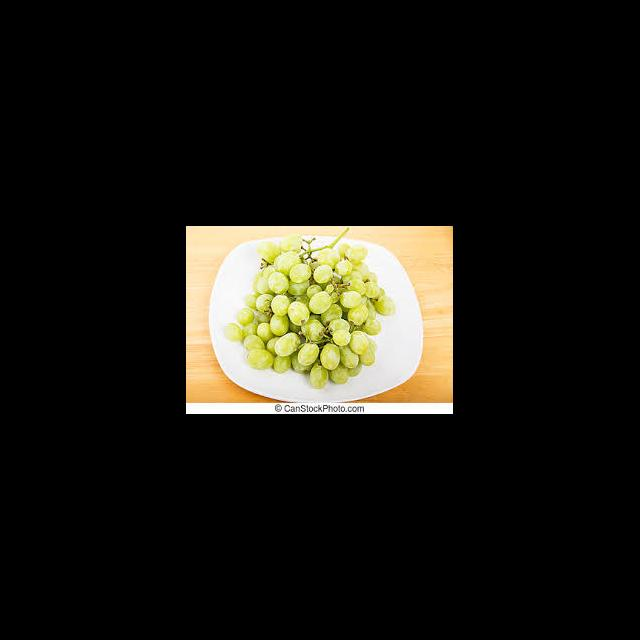grape: (224, 227, 396, 389)
